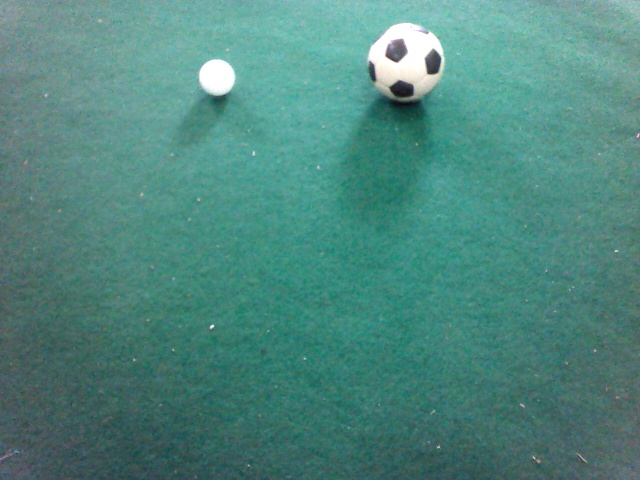ball: (186, 46, 273, 135)
